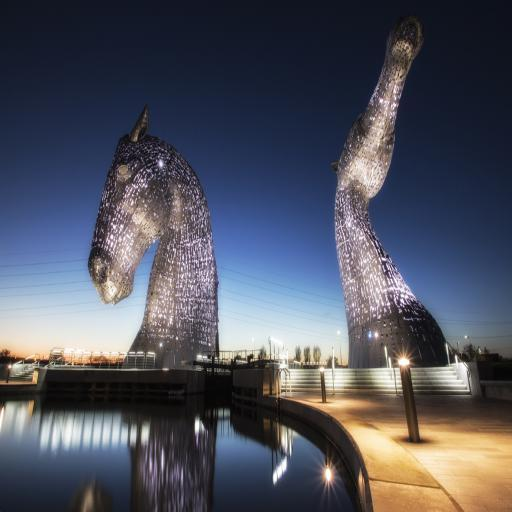horse: (330, 14, 454, 366), (86, 102, 219, 368)
